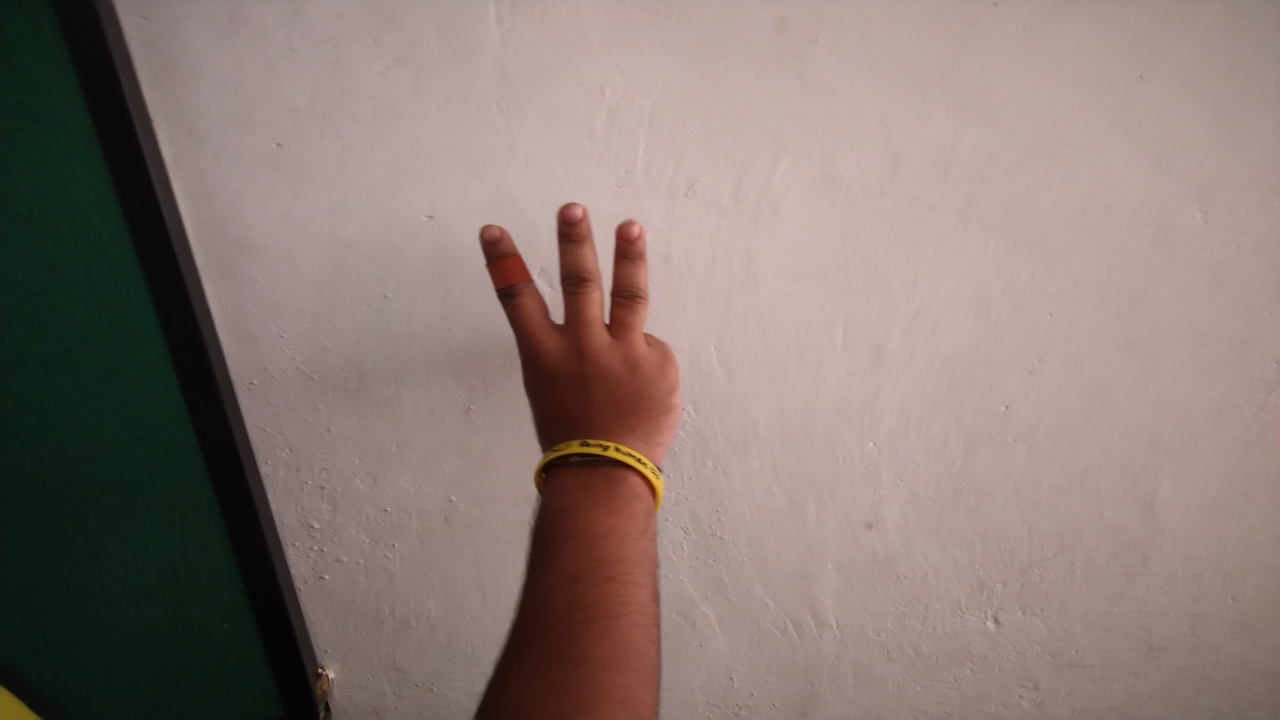fingertip: (468, 212, 518, 260), (550, 192, 596, 238), (606, 206, 652, 252)
